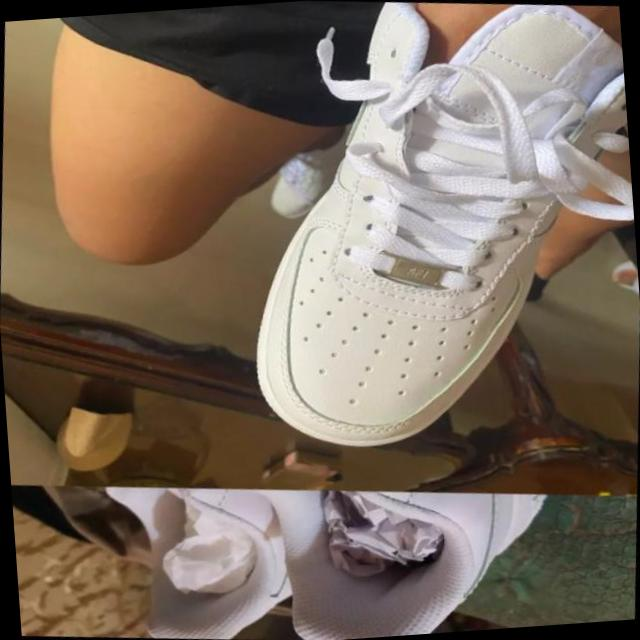nike_fake_airforce: (221, 0, 640, 478)
